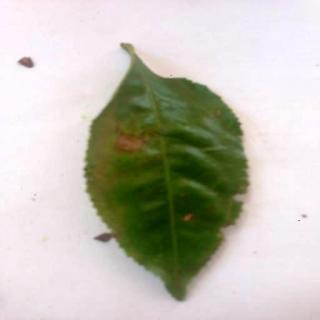Brown Blight: (86, 44, 251, 300)
